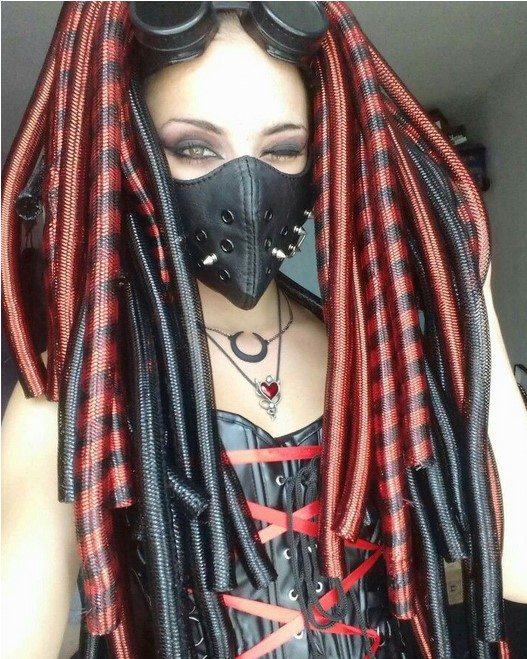face_with_mask: (93, 3, 390, 379)
